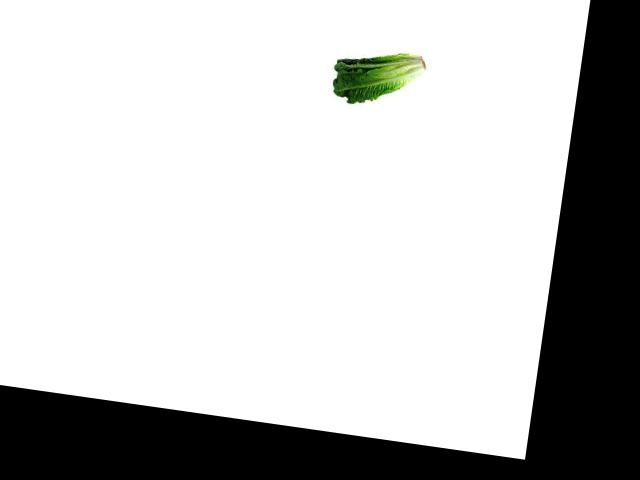lettuce: (327, 40, 433, 112)
